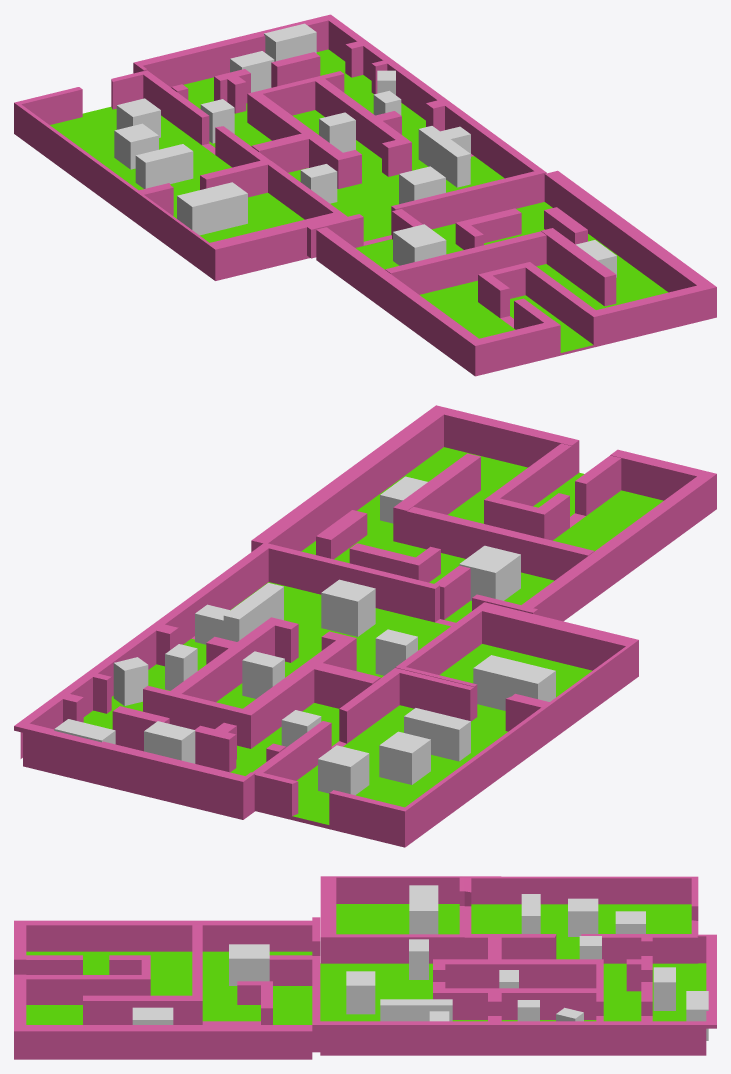
File: lvl.fbx
The picture shows the model from 3 angles, top to bottom: view 1: azimuth 30°, elevation 25°; view 2: azimuth 150°, elevation 25°; view 3: azimuth 270°, elevation 25°; orthographic projection. The views are drawn at different scales.
Parts seen in each view (by area): view 1: Cube.002, Cube.001, Cube, Cube.006, Cube.015, Cube.005, Cube.013, Cube.009, Cube.004, Cube.012, Cube.003, Cube.017 (+5 smaller); view 2: Cube.002, Cube.001, Cube, Cube.006, Cube.012, Cube.013, Cube.005, Cube.004, Cube.003, Cube.015, Cube.008, Cube.017 (+7 smaller); view 3: Cube.002, Cube.001, Cube, Cube.013, Cube.006, Cube.015, Cube.012, Cube.004, Cube.008, Cube.018, Cube.005, Cube.014 (+6 smaller).
Boxes of the visible parts, x1,y1,x2,y2 form: Cube.002: (316, 170, 716, 376); Cube.001: (133, 14, 546, 258); Cube: (14, 70, 347, 280); Cube.006: (177, 182, 247, 235); Cube.015: (418, 126, 470, 187); Cube.005: (135, 144, 193, 188); Cube.013: (393, 224, 446, 265); Cube.009: (264, 23, 316, 61); Cube.004: (114, 123, 158, 169); Cube.012: (399, 166, 445, 204); Cube.003: (116, 98, 160, 137); Cube.017: (319, 112, 355, 152); Cube.002: (251, 405, 716, 622); Cube.001: (14, 542, 537, 819); Cube: (252, 602, 638, 847); Cube.006: (473, 655, 555, 710); Cube.012: (321, 579, 375, 636); Cube.013: (459, 545, 520, 600); Cube.005: (404, 708, 470, 761); Cube.004: (379, 731, 430, 784); Cube.003: (318, 745, 369, 795); Cube.015: (223, 583, 283, 641); Cube.008: (144, 721, 195, 763); Cube.017: (242, 651, 284, 698); Cube.002: (14, 920, 312, 1059); Cube.001: (312, 917, 716, 1055); Cube: (320, 876, 698, 963); Cube.013: (229, 944, 269, 985); Cube.006: (409, 885, 438, 934); Cube.015: (380, 999, 452, 1021); Cube.012: (346, 971, 375, 1014); Cube.004: (568, 898, 598, 936); Cube.008: (653, 967, 675, 1010); Cube.018: (409, 939, 428, 979); Cube.005: (521, 894, 540, 933); Cube.014: (132, 1007, 173, 1024).
Size of the model in its own units: 218 by 25.95 by 418.
